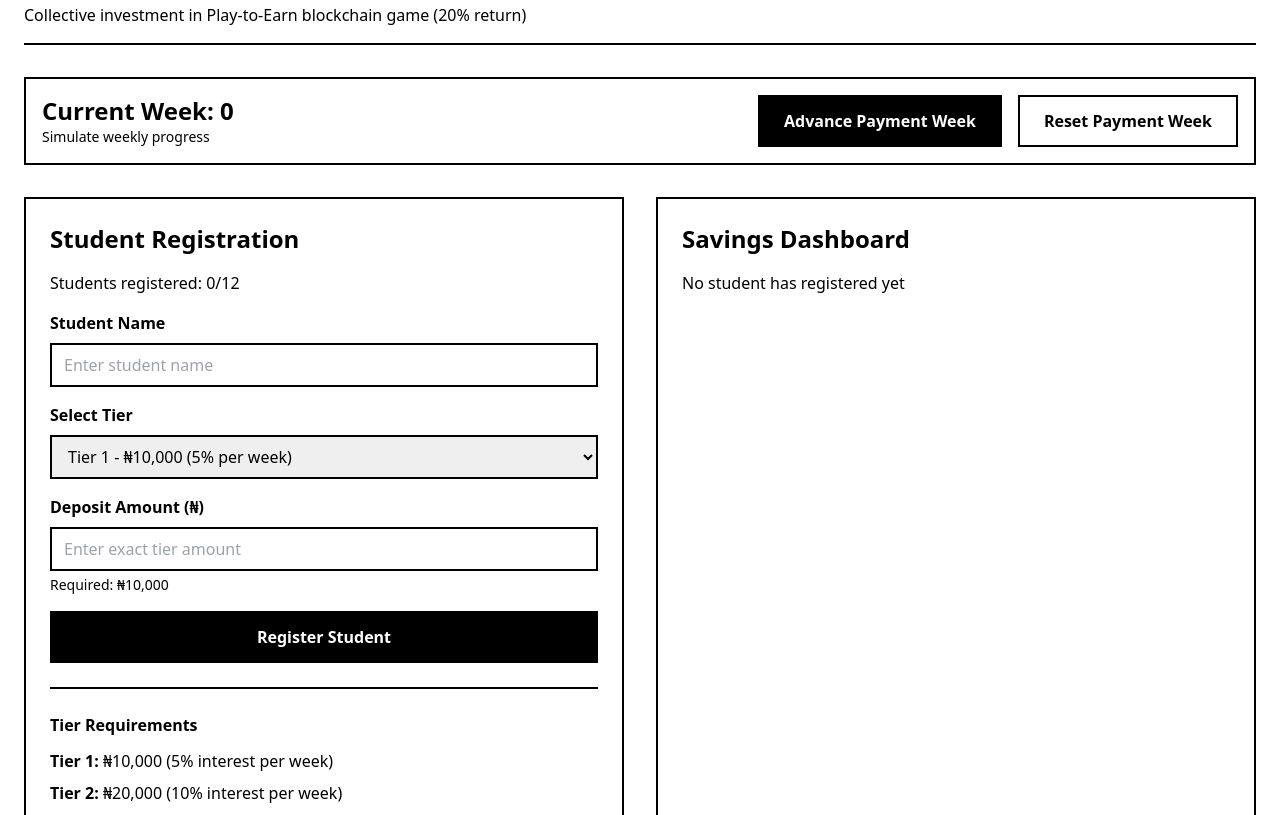
Test case: Savings Group Application › withdraws student and updates total
Type "Bob" into the field with placeholder "Enter student name" at (324, 365), box top-left (50, 343), bottom-right (598, 387)
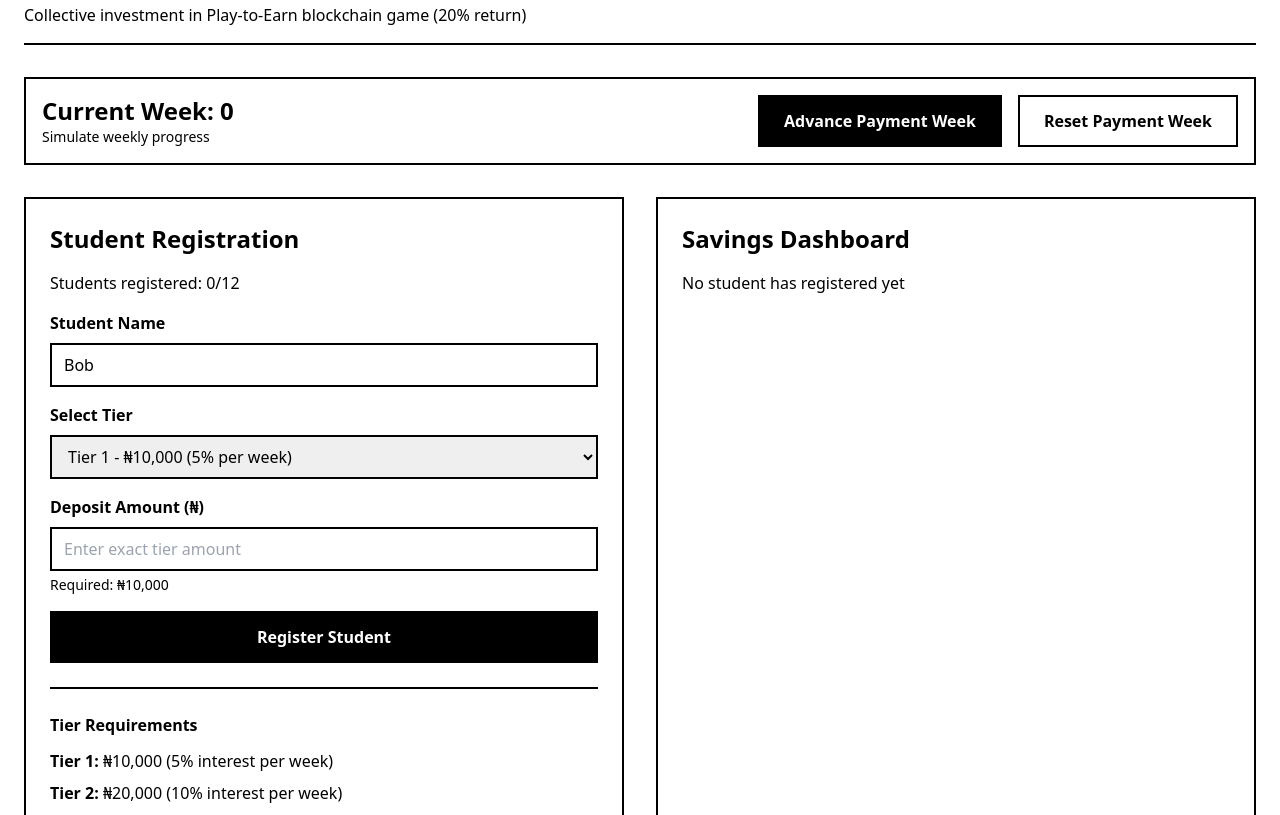
Type "10000" into the number field with placeholder "Enter exact tier amount" at (324, 549), box top-left (50, 527), bottom-right (598, 571)
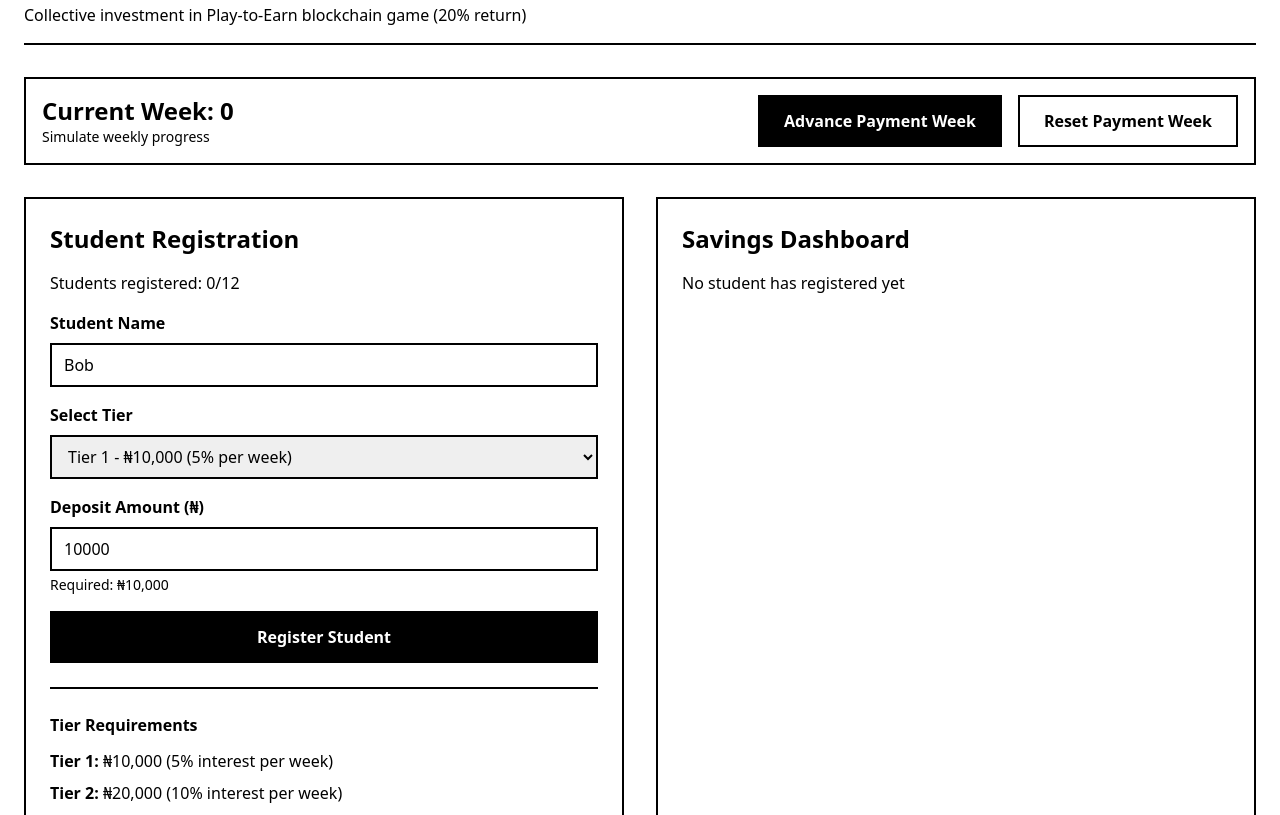
Click the button "Register Student" at (324, 637), box top-left (50, 611), bottom-right (598, 663)
(page scrolled)
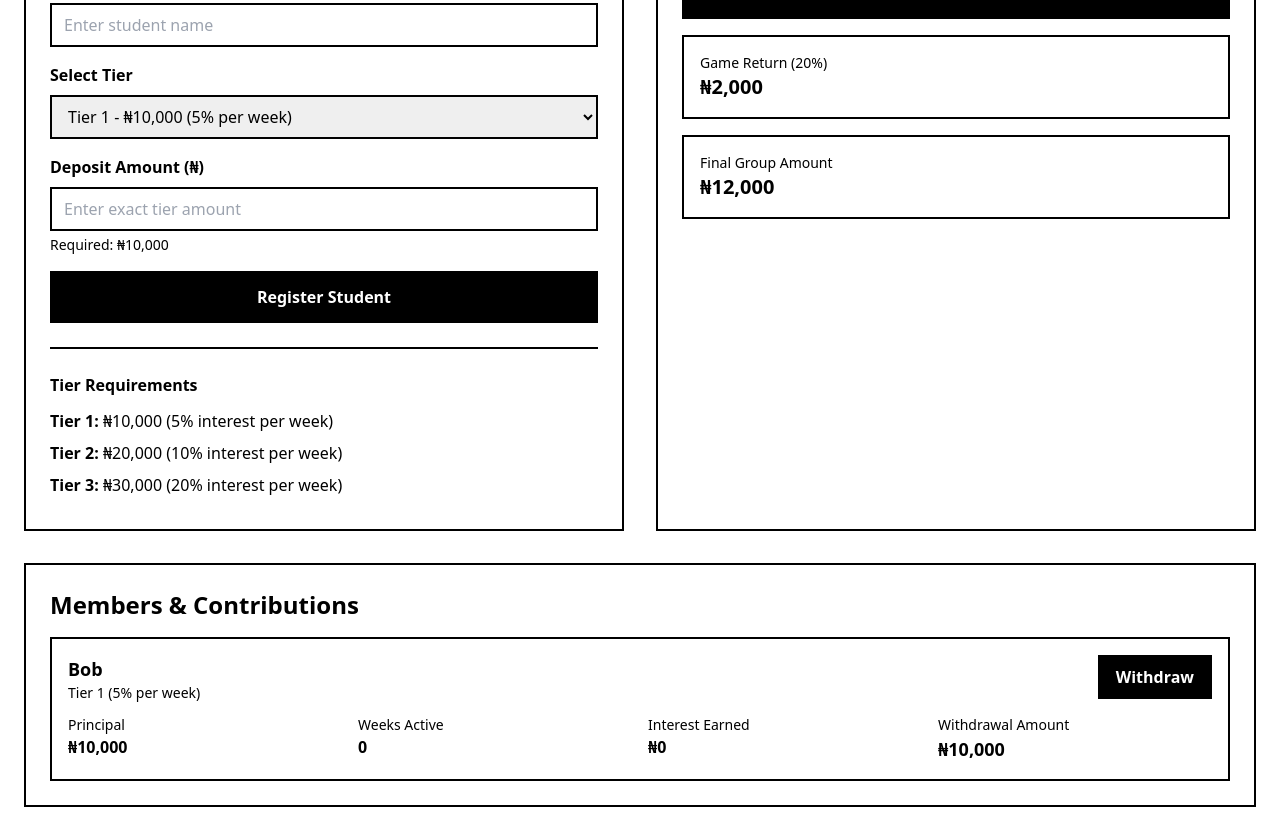
Click the button "Withdraw" at (1155, 677), box top-left (1098, 655), bottom-right (1212, 699)
(page scrolled)
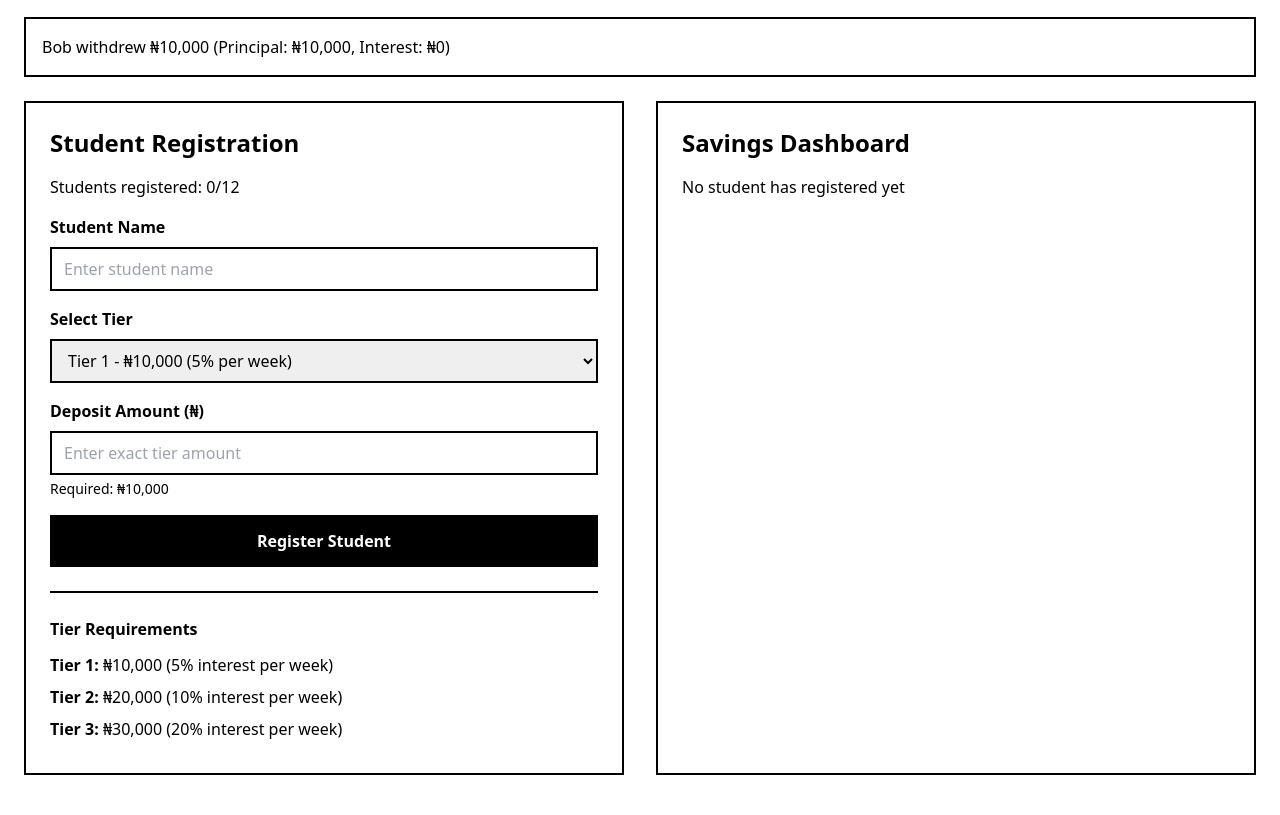
Now the text "Bob withdrew ₦10,000 (Principal: ₦10,000, Interest: ₦0)" is shown, box top-left (24, 17), bottom-right (1256, 77)
